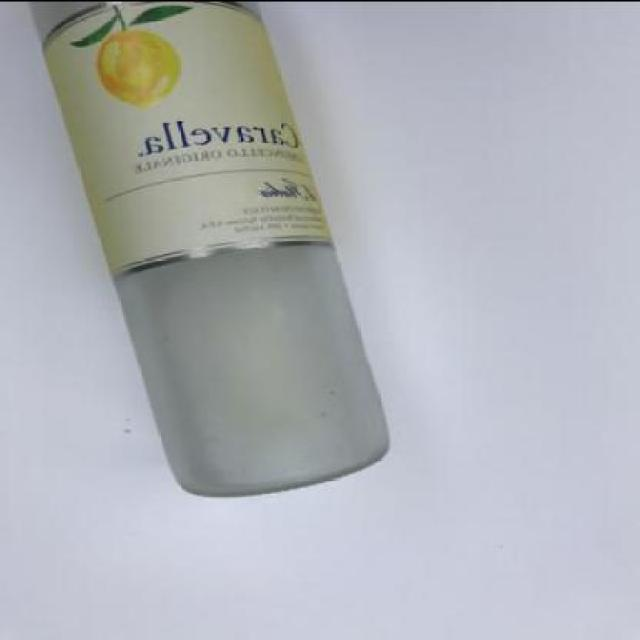glass: (31, 1, 394, 497)
